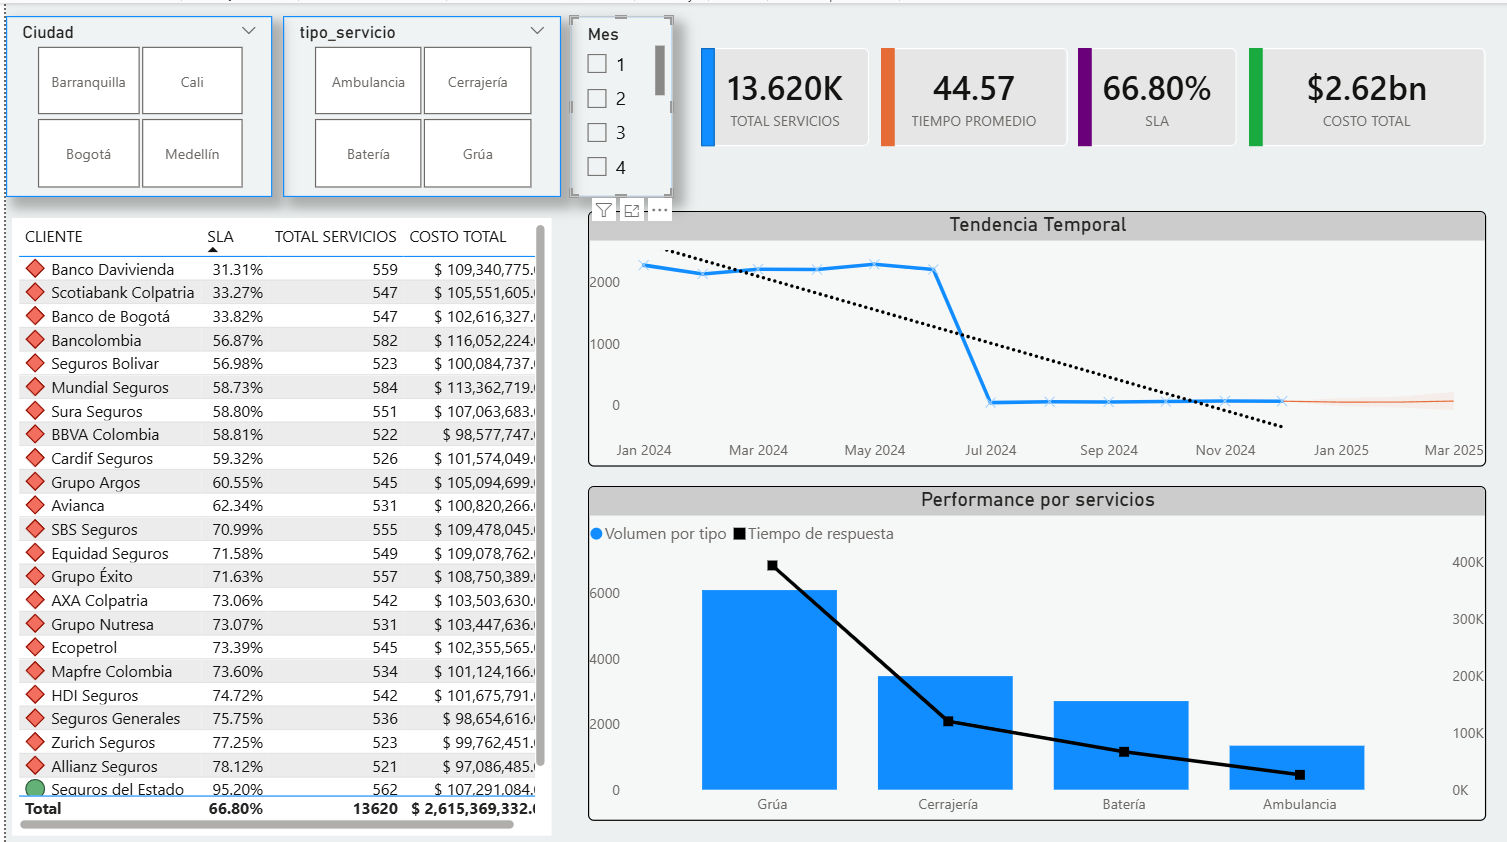

Layout of this report page (visuals, bound fields, positions):
{"tool":"powerbi","page":{"name":"Page 1","canvas":[1280,720],"ordinal":0},"visuals":[{"type":"slicer","title":"Slicerciudad","fields":{"Values":["servicios_limpio.ciudad"]},"box":[0,10.8,225.2,152.7],"z":0},{"type":"cardVisual","title":"servicioscard","fields":{"Data":["servicios_limpio.TOTAL SERVICIOS"]},"box":[587.5,38.4,142.4,83.3],"z":0,"group":"g1"},{"type":"cardVisual","title":"tiempocard","fields":{"Data":["servicios_limpio.TIEMPO PROMEDIO"]},"box":[739.7,38.4,157.6,83.3],"z":0,"group":"g2"},{"type":"cardVisual","title":"slacard","fields":{"Data":["servicios_limpio.SLA"]},"box":[906.3,38.4,134.3,83.3],"z":0,"group":"g3"},{"type":"cardVisual","title":"costocard","fields":{"Data":["servicios_limpio.COSTO TOTAL"]},"box":[1050.4,38.4,199.7,83.3],"z":0,"group":"g4"},{"type":"slicer","title":"SlicerMes","fields":{"Values":["Calendario.Mes"]},"box":[476.4,10.7,86.9,153.1],"z":1000},{"type":"shape","title":"servicioshape","box":[587.5,38.4,11.6,83.3],"z":1000,"group":"g1"},{"type":"shape","title":"tiemposhape","box":[739.7,38.4,11.6,83.3],"z":1000,"group":"g2"},{"type":"shape","title":"slashape","box":[906.3,38.4,11.6,83.3],"z":1000,"group":"g3"},{"type":"shape","title":"costoshape","box":[1050.4,38.4,11.6,83.3],"z":1000,"group":"g4"},{"type":"slicer","title":"SlicerServicios","fields":{"Values":["servicios_limpio.tipo_servicio"]},"box":[233.9,10.8,235,152.7],"z":2000},{"type":"lineChart","title":"Tendencia Temporal","fields":{"Y":["servicios_limpio.TOTAL SERVICIOS"],"Category":["Calendario.Date.Variation.Date Hierarchy.Year","Calendario.Date.Variation.Date Hierarchy.Quarter","Calendario.Date.Variation.Date Hierarchy.Month","Calendario.Date.Variation.Date Hierarchy.Day"]},"box":[491.6,175.5,758.5,215.8],"z":3000},{"type":"lineStackedColumnComboChart","title":"Performance por servicios","fields":{"Category":["servicios_limpio.tipo_servicio"],"Y2":["Sum(servicios_limpio.tiempo_respuesta_min)"],"Y":["servicios_limpio.TOTAL SERVICIOS"]},"box":[491.6,408.4,758.5,283],"z":4000},{"type":"tableEx","fields":{"Values":["clientes_limpio.cliente","servicios_limpio.SLA","servicios_limpio.TOTAL SERVICIOS","servicios_limpio.COSTO TOTAL"]},"box":[5.4,181.8,455.8,522.1],"z":5000},{"type":"group","id":"g1","title":"kpiServicios","box":[587.5,38.4,142.4,83.3],"z":6000},{"type":"group","id":"g2","title":"kpitiempo","box":[739.7,38.4,157.6,83.3],"z":7000},{"type":"group","id":"g3","title":"kpisla","box":[906.3,38.4,134.3,83.3],"z":8000},{"type":"group","id":"g4","title":"kpicosto","box":[1050.4,38.4,199.7,83.3],"z":9000}]}

Visuals, with their boxes in screenshot pixels (x1, y1, x2, y2), scaled from the page's 1280x720 canvas onto the 1507x842 screenshot:
"Slicerciudad" slicer: 0/13/265/191
"servicioscard" cardVisual: 692/45/859/142
"tiempocard" cardVisual: 871/45/1056/142
"slacard" cardVisual: 1067/45/1225/142
"costocard" cardVisual: 1237/45/1472/142
"SlicerMes" slicer: 561/13/663/192
"servicioshape" shape: 692/45/705/142
"tiemposhape" shape: 871/45/885/142
"slashape" shape: 1067/45/1081/142
"costoshape" shape: 1237/45/1250/142
"SlicerServicios" slicer: 275/13/552/191
"Tendencia Temporal" lineChart: 579/205/1472/458
"Performance por servicios" lineStackedColumnComboChart: 579/478/1472/809
tableEx - clientes_limpio.cliente x servicios_limpio.SLA: 6/213/543/823
"kpiServicios" group: 692/45/859/142
"kpitiempo" group: 871/45/1056/142
"kpisla" group: 1067/45/1225/142
"kpicosto" group: 1237/45/1472/142
